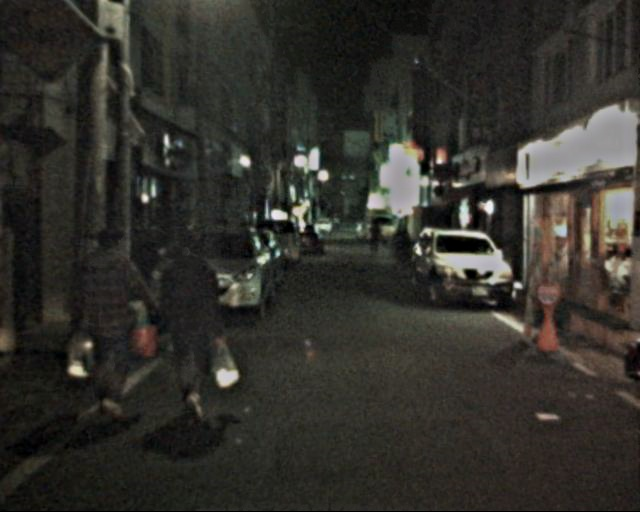person: (67, 222, 159, 430), (156, 232, 236, 430), (367, 221, 385, 260)
